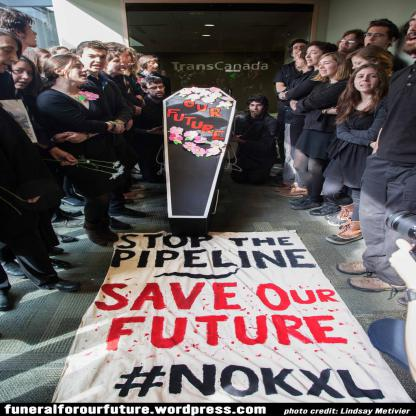face: (9, 61, 34, 90), (1, 36, 20, 74), (62, 59, 88, 84), (355, 68, 381, 92), (15, 21, 38, 48), (82, 49, 107, 73), (365, 27, 390, 48), (319, 56, 338, 78), (352, 57, 374, 76), (306, 46, 324, 67), (406, 16, 416, 53), (339, 35, 359, 53), (107, 57, 125, 75), (147, 83, 165, 99), (117, 51, 132, 70), (38, 53, 55, 69), (293, 43, 309, 59), (250, 102, 266, 116), (294, 52, 307, 69), (57, 49, 73, 62), (148, 61, 160, 73), (221, 80, 227, 86), (217, 80, 222, 86), (163, 72, 168, 76)
